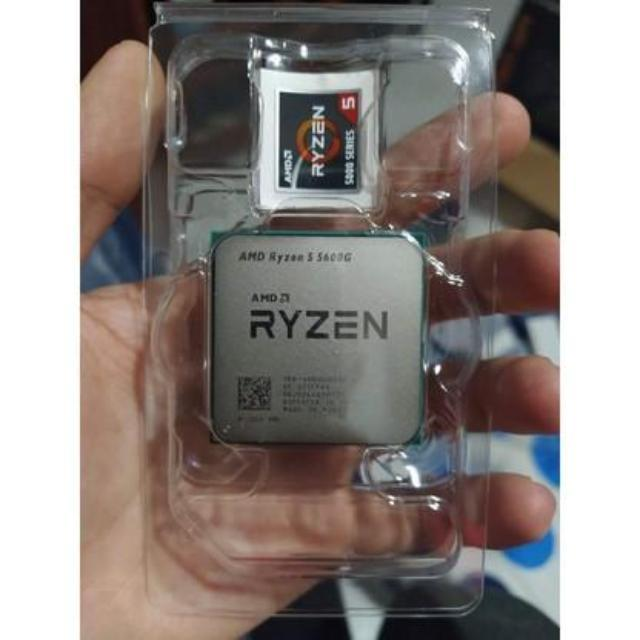CPU: (208, 234, 424, 443)
